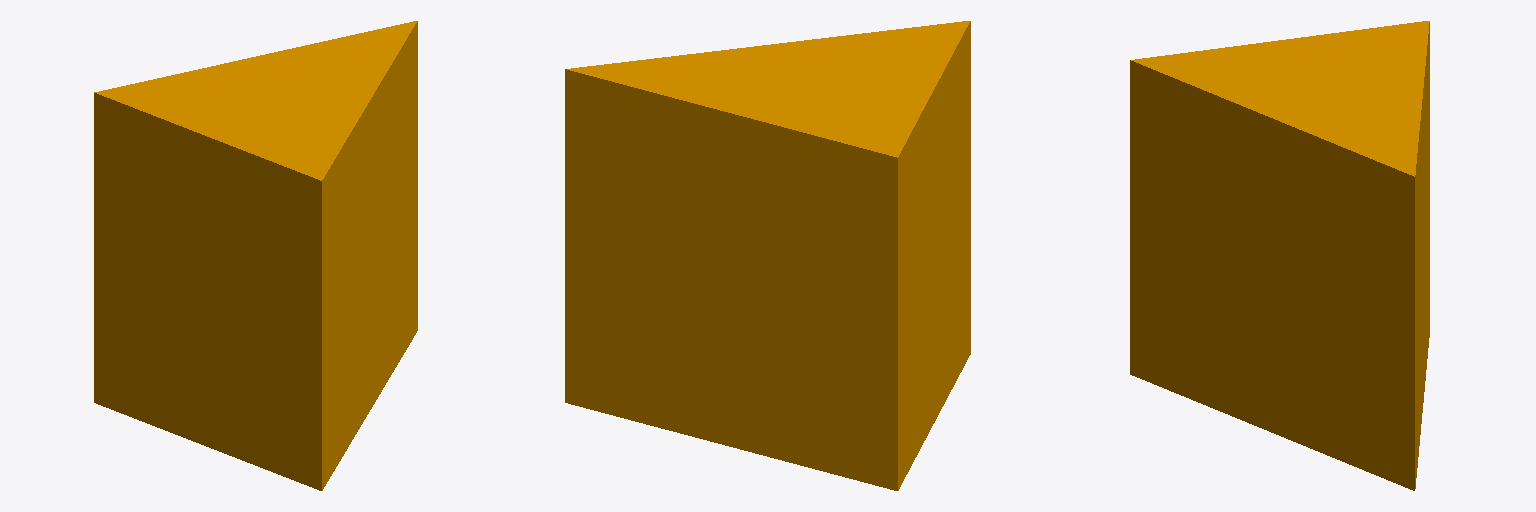
URDF robot description (object):
<?xml version="1.0"?>
<robot name="object">
  <link name="object">
    <visual>
      <origin xyz="0 0 0"/>
      <geometry>
        <mesh filename="meshes/generated/col_065.obj" scale="0.03 0.03 0.03"/>
      </geometry>
    </visual>
    <collision>
      <origin xyz="0 0 0"/>
      <geometry>
        <mesh filename="meshes/generated/col_065.obj" scale="0.03 0.03 0.03"/>
      </geometry>
    </collision>
    <inertial>
      <density value="1000.0"/>
    </inertial>
  </link>
</robot>

--- What the picture shows (computed from the rendered views, not written in the file) ---
The picture shows the robot from 3 angles, left to right: view 1: azimuth 30°, elevation 25°; view 2: azimuth 150°, elevation 25°; view 3: azimuth 270°, elevation 25°; orthographic projection.
Model object with 1 links and 0 joints (none), rooted at object, posed all joints at 0.
Visible links, largest first — view 1: object; view 2: object; view 3: object.
Link boxes in pixels (bbox=[...]): object: bbox=[94, 21, 417, 490]; object: bbox=[565, 21, 970, 490]; object: bbox=[1130, 21, 1429, 490].
Bounding box of the posed robot: 0.064 × 0.0518 × 0.06 m (x, y, z).
Meshes: 1 distinct files referenced, 1 mesh visuals loaded (1 OBJ).
